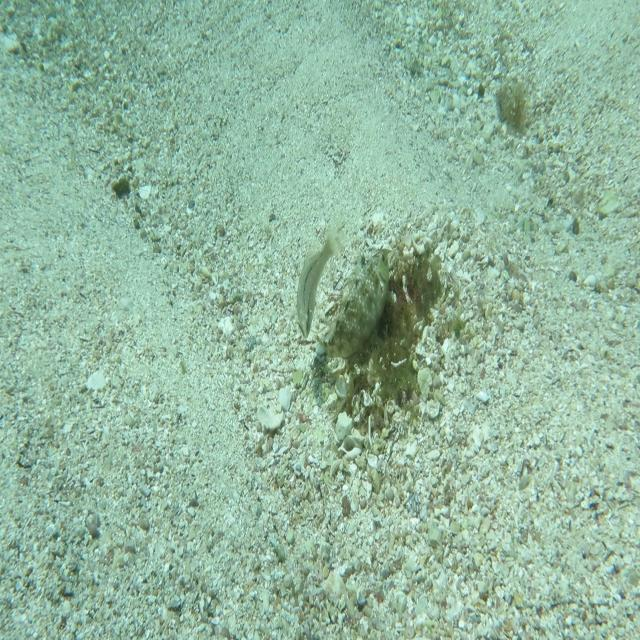BEND: (314, 246, 392, 361)
female: (297, 215, 347, 340)
nest: (312, 230, 445, 443)
